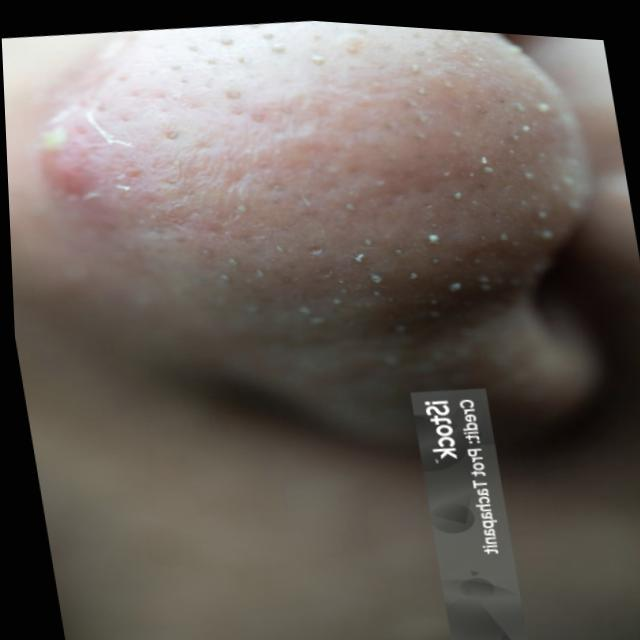papule: (17, 106, 138, 220)
whitehead: (118, 26, 581, 379)
